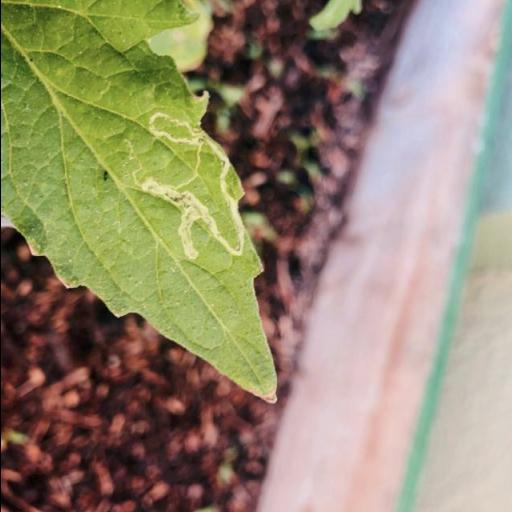disease_tomato: (0, 0, 282, 409)
